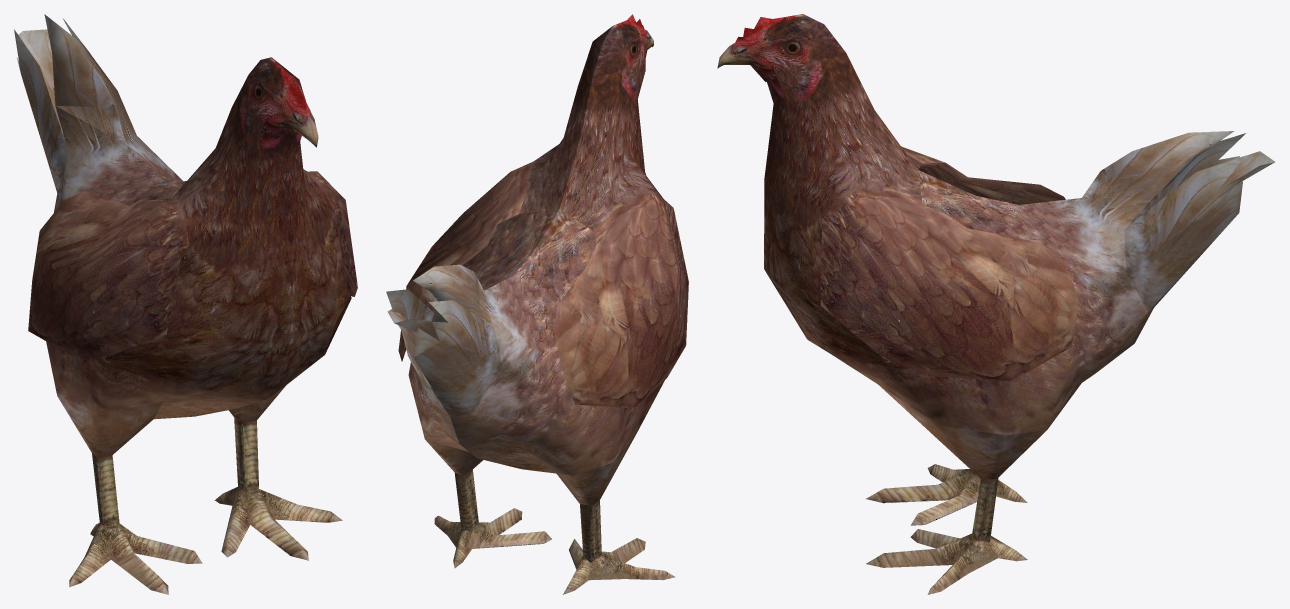
The model's file is hen.fbx.
3 views of the same model, side by side, from view 1: azimuth 30°, elevation 25°; view 2: azimuth 150°, elevation 25°; view 3: azimuth 270°, elevation 25° (orthographic). The views are drawn at different scales.
Visible parts, largest first — view 1: skel_chicken; view 2: skel_chicken; view 3: skel_chicken.
Part boxes in pixels (box(x1,y1,x2,y2)): skel_chicken: box(14, 14, 357, 594); skel_chicken: box(386, 14, 688, 594); skel_chicken: box(717, 14, 1274, 594).
Size of the model in its own units: 16.42 by 31.08 by 30.38.
Materials: 1 (1 with a texture image).
